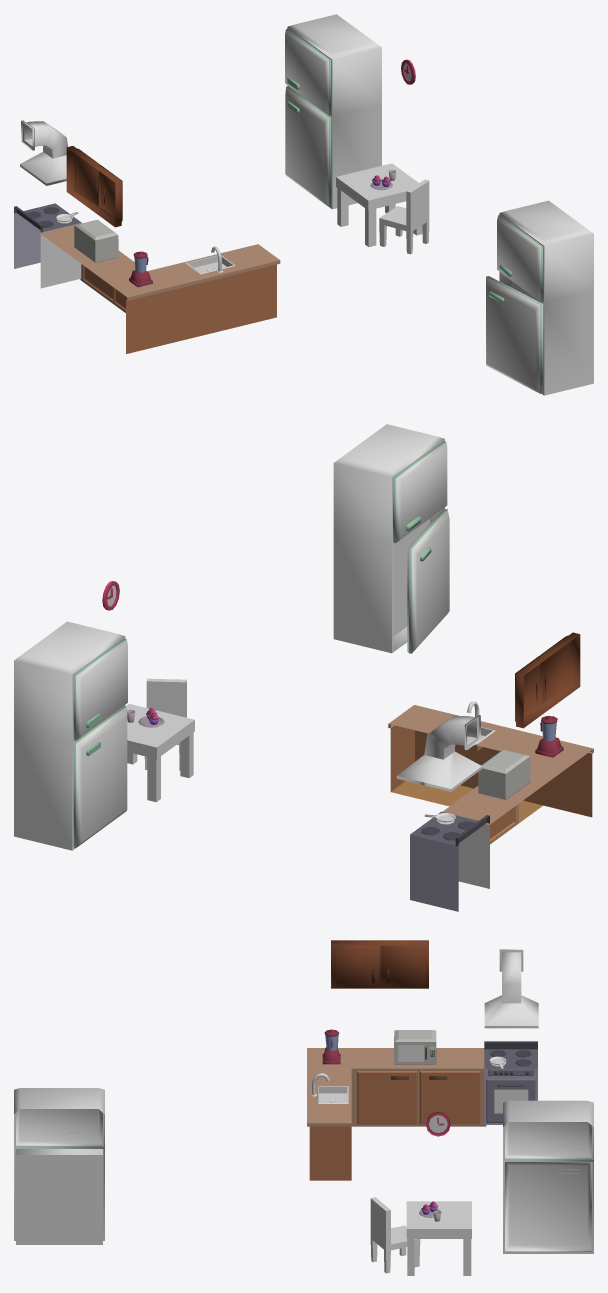
Rendered from Kitchen.fbx.
3 renders of one model, top to bottom at view 1: azimuth 30°, elevation 25°; view 2: azimuth 150°, elevation 25°; view 3: azimuth 270°, elevation 25°, orthographic. The views are drawn at different scales.
Visible parts, largest first — view 1: RefrigeratorOpen, RefrigeratorClose, KitchenCountertop, Stove, Table, Cabinet, KitchenHood, Chair, Microwave, Blender; view 2: RefrigeratorClose, RefrigeratorOpen, KitchenCountertop, Stove, Cabinet, KitchenHood, Table, Microwave, RefrigeratorOpen_Emissive, Chair, Blender; view 3: KitchenCountertop, RefrigeratorClose, RefrigeratorOpen_Emissive, RefrigeratorOpen, Cabinet, Stove, Table, KitchenHood, Chair, Microwave, Stove_Emissive, Blender (+1 smaller).
Part boxes in pixels (bbox=[...]): RefrigeratorOpen: bbox=[486, 200, 593, 395]; RefrigeratorClose: bbox=[285, 14, 381, 209]; KitchenCountertop: bbox=[39, 223, 280, 353]; Stove: bbox=[14, 203, 81, 288]; Table: bbox=[336, 163, 422, 246]; Cabinet: bbox=[66, 146, 122, 227]; KitchenHood: bbox=[20, 120, 67, 185]; Chair: bbox=[379, 179, 429, 254]; Microwave: bbox=[74, 219, 118, 262]; Blender: bbox=[129, 251, 152, 287]; RefrigeratorClose: bbox=[14, 621, 127, 850]; RefrigeratorOpen: bbox=[333, 424, 449, 653]; KitchenCountertop: bbox=[388, 705, 593, 844]; Stove: bbox=[410, 811, 489, 911]; Cabinet: bbox=[515, 632, 580, 728]; KitchenHood: bbox=[396, 714, 482, 791]; Table: bbox=[126, 703, 194, 802]; Microwave: bbox=[478, 749, 530, 800]; RefrigeratorOpen_Emissive: bbox=[393, 509, 443, 649]; Chair: bbox=[144, 678, 186, 770]; Blender: bbox=[535, 716, 563, 757]; KitchenCountertop: bbox=[307, 1048, 486, 1180]; RefrigeratorClose: bbox=[503, 1100, 593, 1253]; RefrigeratorOpen_Emissive: bbox=[16, 1149, 102, 1244]; RefrigeratorOpen: bbox=[14, 1088, 104, 1240]; Cabinet: bbox=[331, 940, 428, 988]; Stove: bbox=[484, 1041, 537, 1124]; Table: bbox=[406, 1201, 471, 1275]; KitchenHood: bbox=[484, 949, 538, 1028]; Chair: bbox=[370, 1197, 420, 1273]; Microwave: bbox=[394, 1030, 436, 1064]; Stove_Emissive: bbox=[490, 1062, 528, 1113]; Blender: bbox=[322, 1029, 340, 1064].
Bounding box in the file's own units: 1052 × 470 × 1485.
